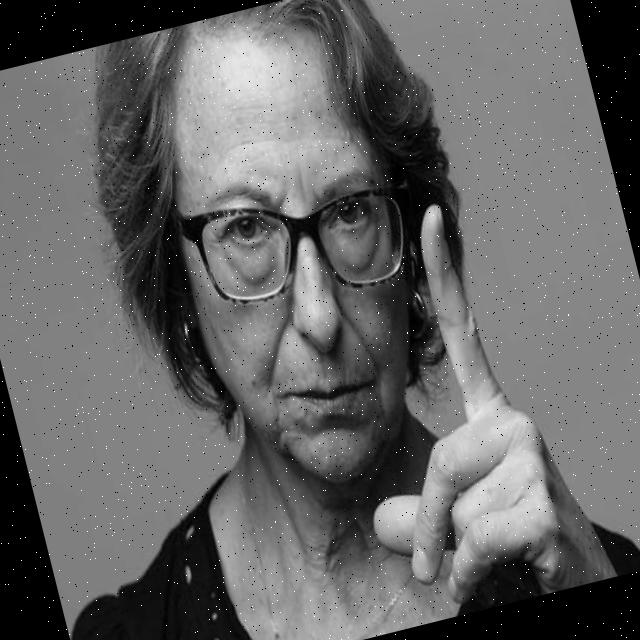Angry: (134, 11, 450, 505)
